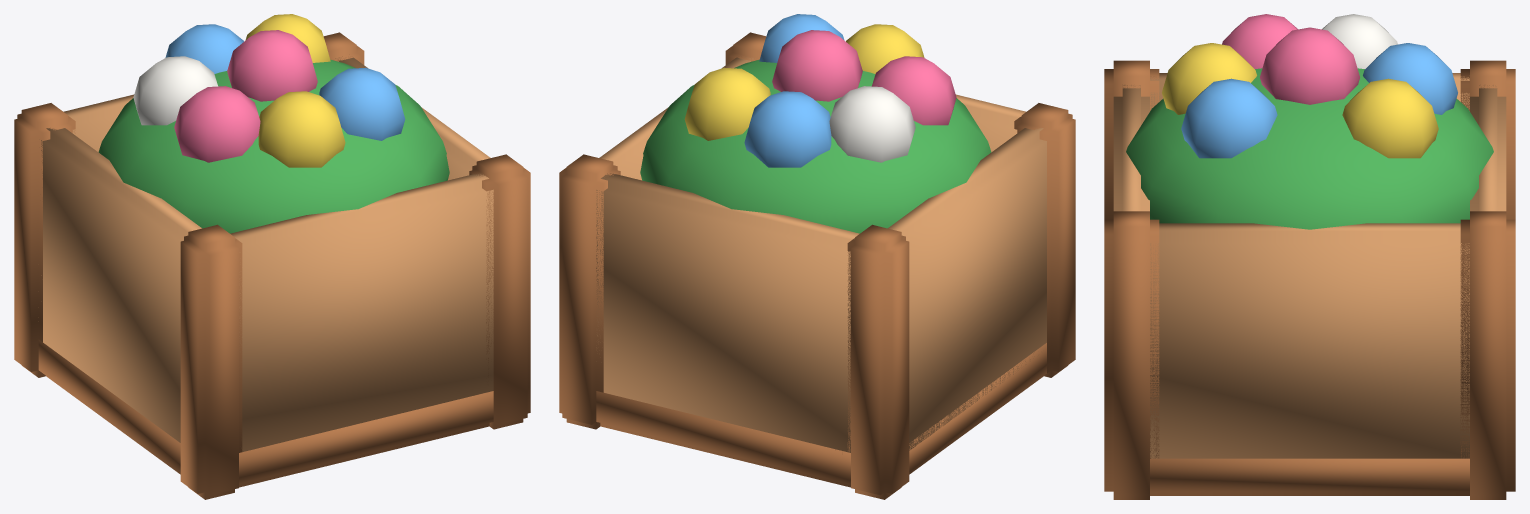
Rendered from CrateFlowers.fbx.
3 renders of one model, left to right at view 1: azimuth 30°, elevation 25°; view 2: azimuth 150°, elevation 25°; view 3: azimuth 270°, elevation 25°, orthographic. The views are drawn at different scales.
Visible parts, largest first — view 1: CrateFlowers; view 2: CrateFlowers; view 3: CrateFlowers.
Part boxes in pixels (box(x1,y1,x2,y2)): CrateFlowers: box(14, 14, 530, 499); CrateFlowers: box(559, 14, 1075, 499); CrateFlowers: box(1104, 14, 1515, 499).
Size of the model in its own units: 0.9 by 0.93 by 0.9.
